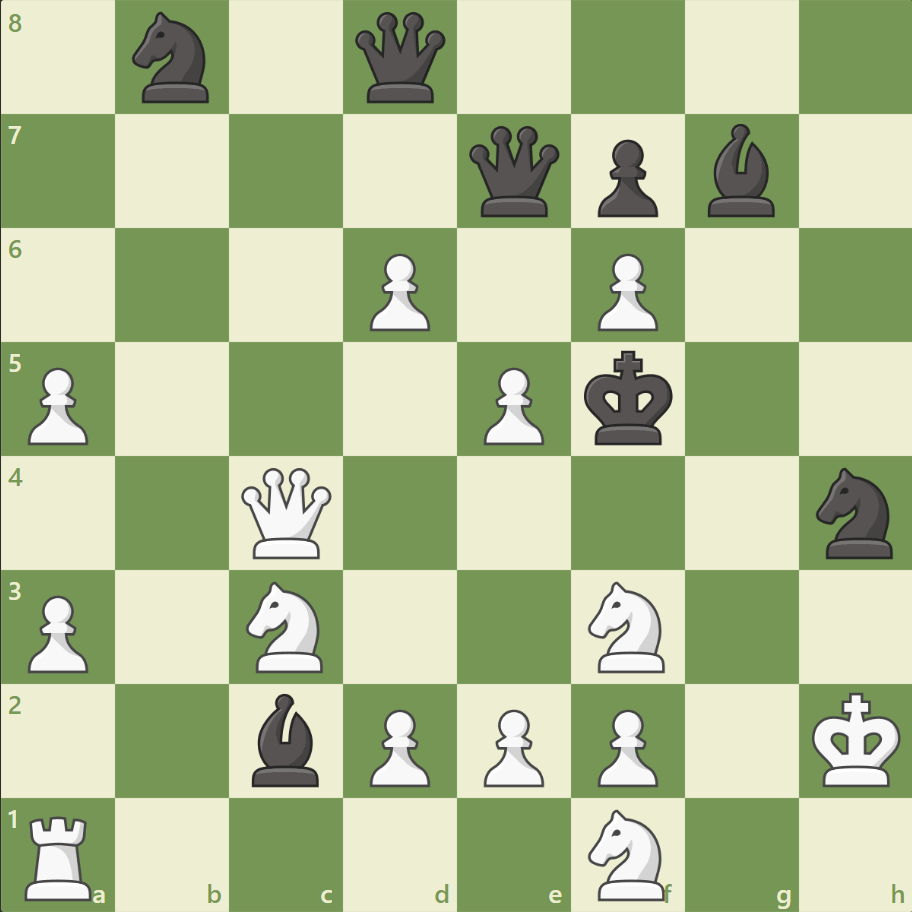K: (806, 685, 906, 793)
N: (238, 575, 335, 677), (579, 575, 676, 677), (579, 802, 676, 904)
P: (20, 359, 95, 450), (474, 359, 549, 450), (20, 586, 95, 677), (474, 700, 549, 791), (361, 246, 435, 337), (588, 246, 662, 337), (361, 700, 435, 791), (588, 700, 662, 791)
Q: (237, 463, 336, 562)
R: (19, 806, 102, 904)
b: (244, 687, 328, 790), (698, 120, 782, 222)
k: (579, 344, 679, 452)
n: (124, 7, 222, 110), (806, 461, 903, 564)
p: (588, 132, 662, 223)
q: (464, 122, 563, 222), (351, 9, 450, 108)
